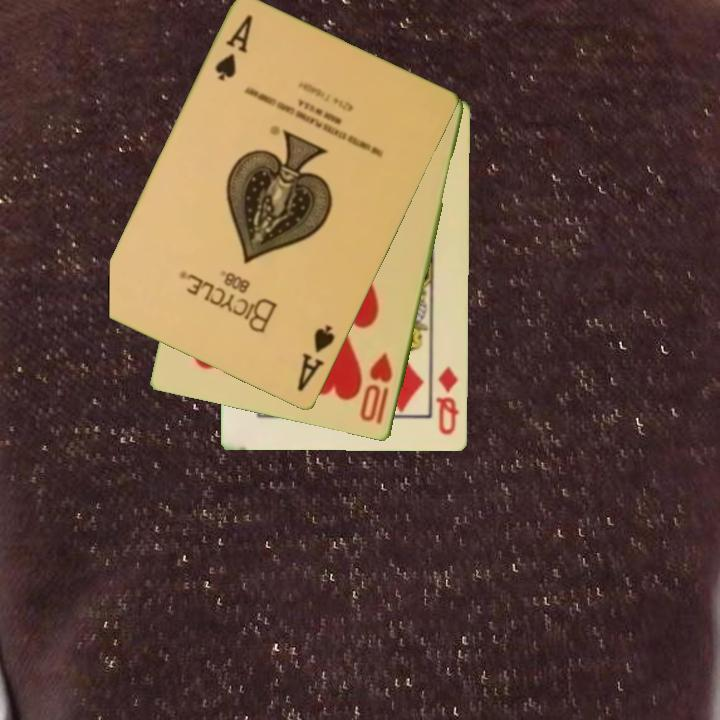10h: (356, 350, 396, 428)
As: (211, 11, 256, 85), (293, 322, 338, 395)
Qd: (433, 363, 462, 438)
